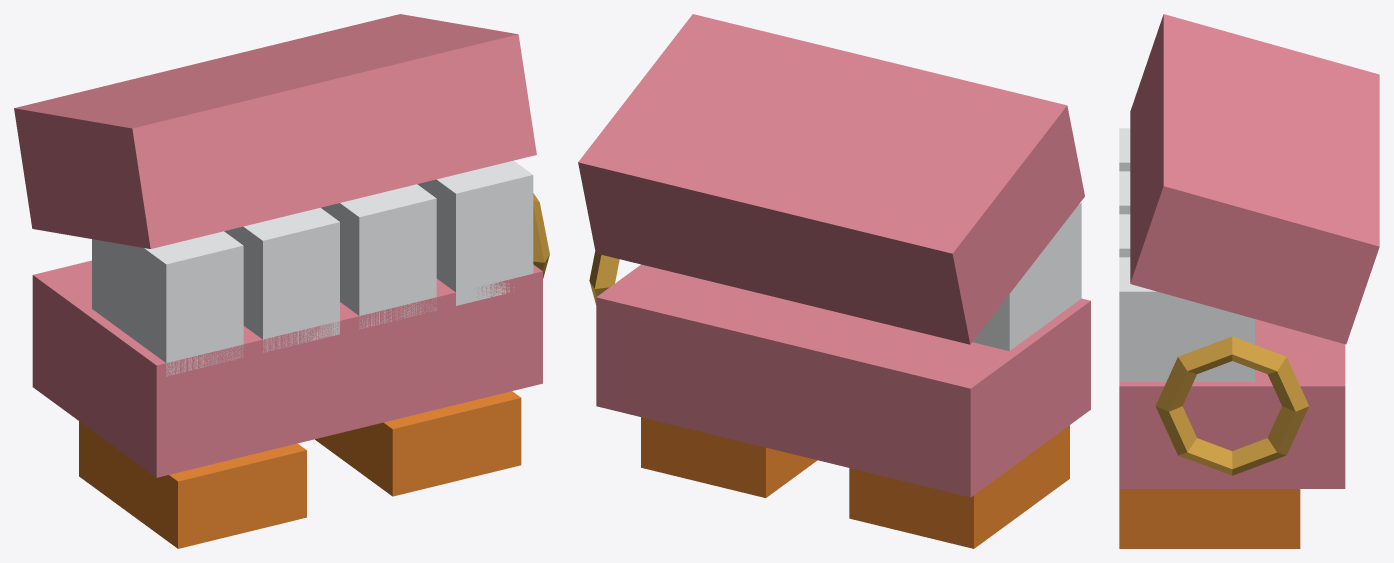
Rendered from chatter_teeth.glb.
The picture shows the model from 3 angles, left to right: view 1: azimuth 30°, elevation 25°; view 2: azimuth 150°, elevation 25°; view 3: azimuth 270°, elevation 25°; orthographic projection. The views are drawn at different scales.
Visible parts, largest first — view 1: upper_gum_pink, lower_gum_pink, lower_dental_white, feet_feet_orange (×2), key_key_brass; view 2: upper_gum_pink, lower_gum_pink, feet_feet_orange (×2), lower_dental_white, key_key_brass; view 3: upper_gum_pink, lower_gum_pink, lower_dental_white, feet_feet_orange, key_key_brass.
Part boxes in pixels (x1,y1,x2,y2): upper_gum_pink: (14,14,536,248); lower_gum_pink: (32,260,542,477); lower_dental_white: (92,160,533,376); feet_feet_orange (×2): (79,391,521,548); key_key_brass: (533,193,549,278); upper_gum_pink: (578,14,1084,344); lower_gum_pink: (596,264,1090,497); feet_feet_orange (×2): (641,417,1069,548); lower_dental_white: (972,202,1081,351); key_key_brass: (589,251,619,304); upper_gum_pink: (1130,14,1379,344); lower_gum_pink: (1119,319,1345,488); lower_dental_white: (1119,128,1254,381); feet_feet_orange: (1119,489,1300,548); key_key_brass: (1155,336,1308,475).
Bounding box in the file's own units: 0.098 × 0.0908 × 0.0576.
